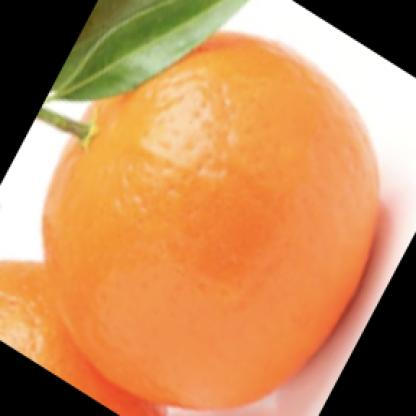fresh: (43, 34, 380, 405)
